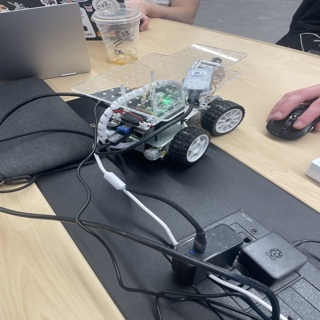vehicle: (71, 43, 245, 168)
